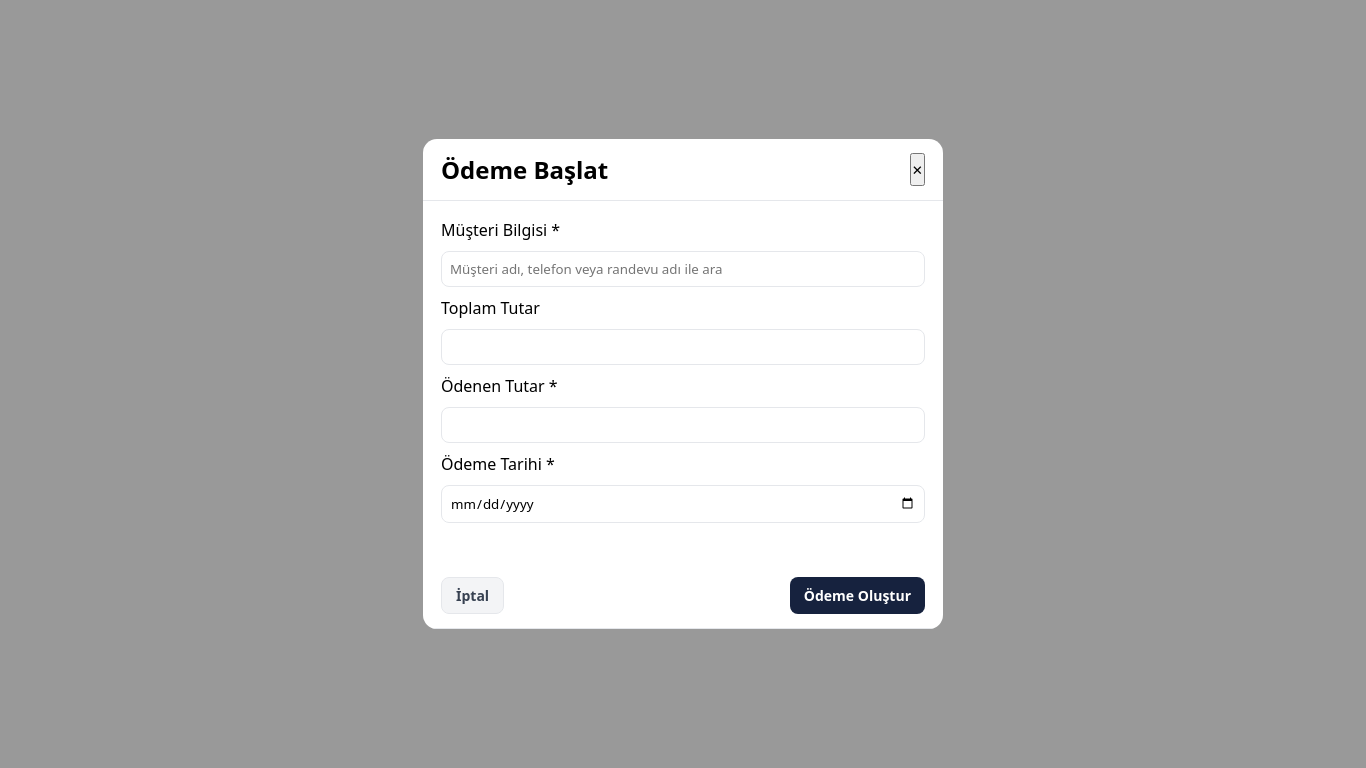
Scenario: AddPaymentModal › appointment selection › selects a satis appointment and locks its label
Type "ali" into the field with placeholder "Müşteri adı, telefon veya randevu adı ile ara" at (683, 269), box x1=441 y1=251 x2=925 y2=287
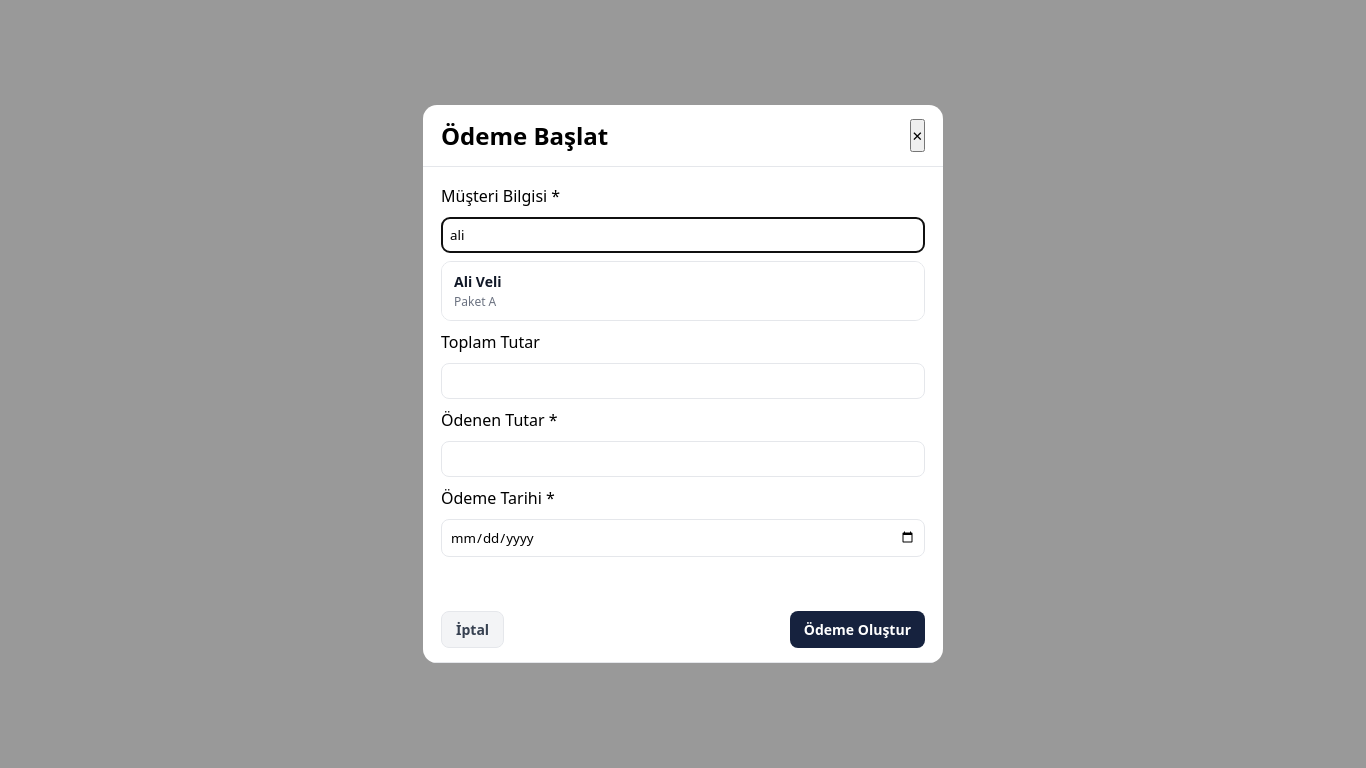
Click the text "Ali Veli" at (478, 282), box x1=454 y1=272 x2=502 y2=291
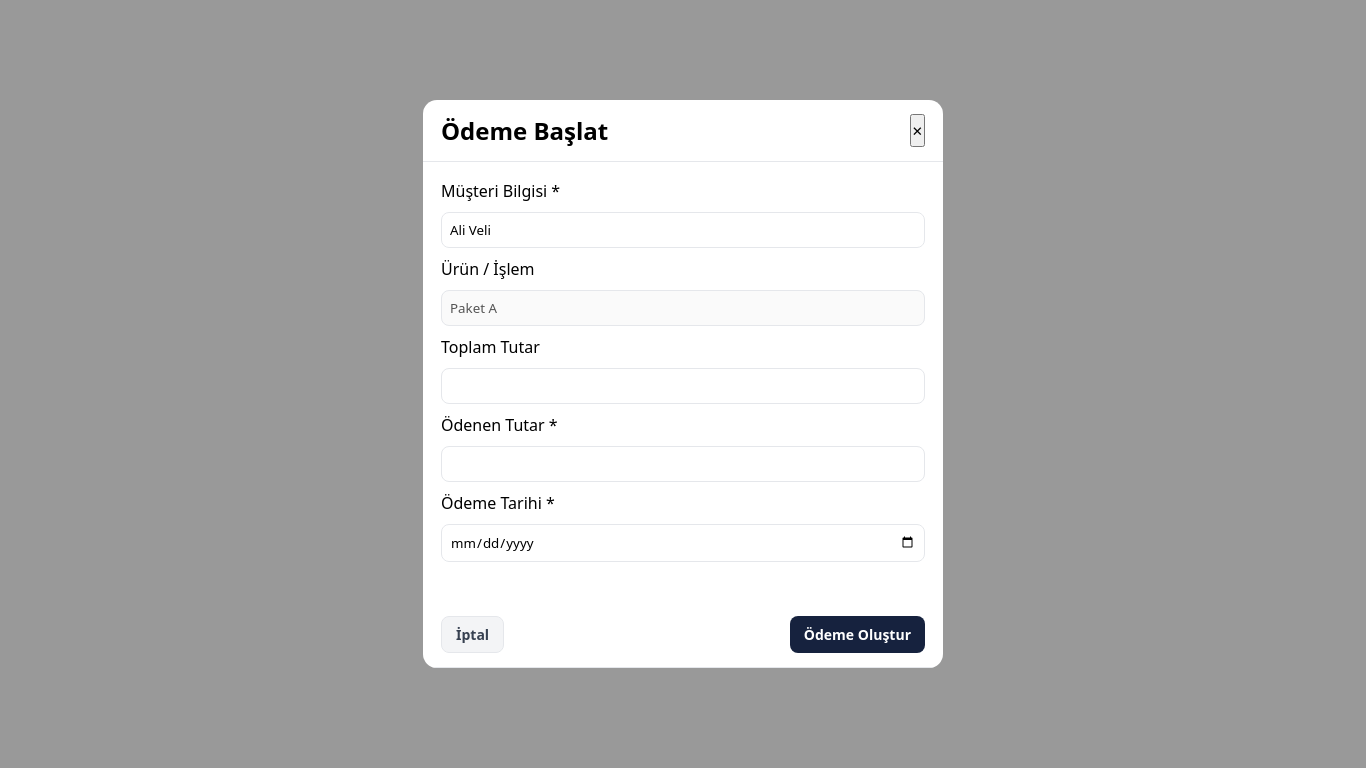
Result: the 1st field showing "Ali Veli" is shown at x1=441 y1=212 x2=925 y2=248
